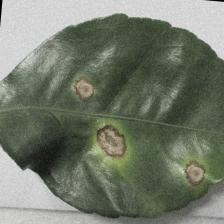canker: (63, 70, 209, 189)
